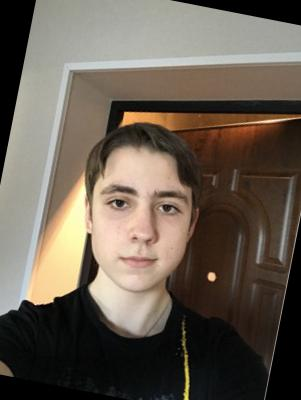without_mask: (76, 172, 196, 302)
